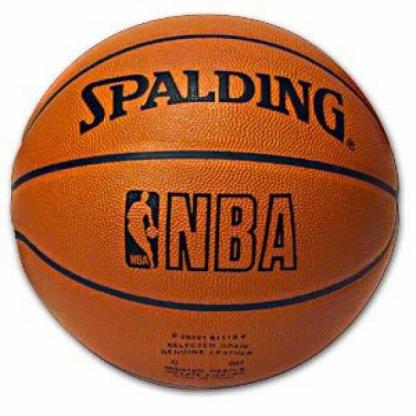basketball: (6, 10, 400, 392)
